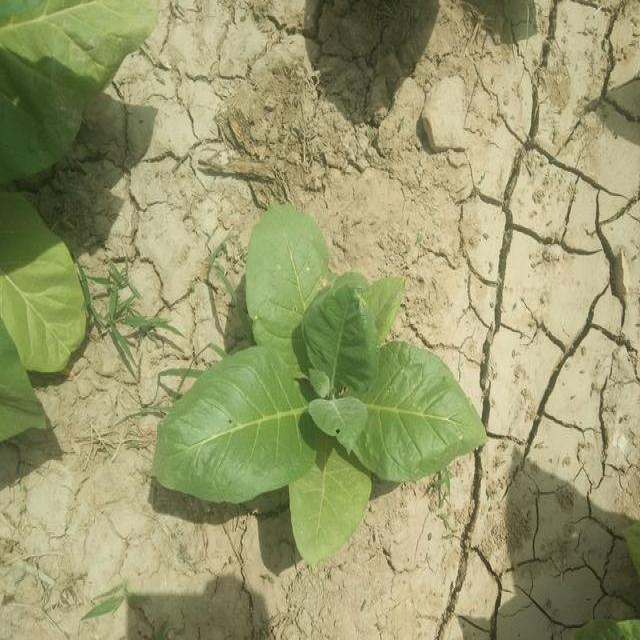crop: (167, 219, 487, 554), (0, 0, 160, 184), (2, 196, 79, 434)
